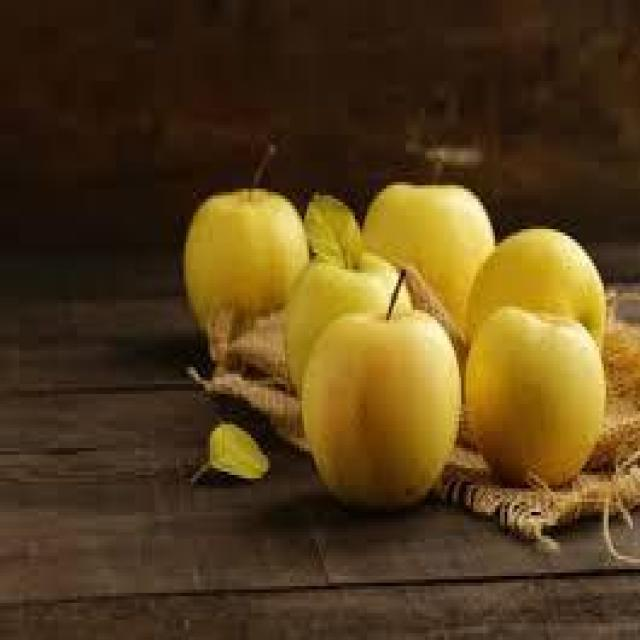maca: (184, 175, 611, 509), (297, 266, 461, 509), (461, 303, 606, 485)
